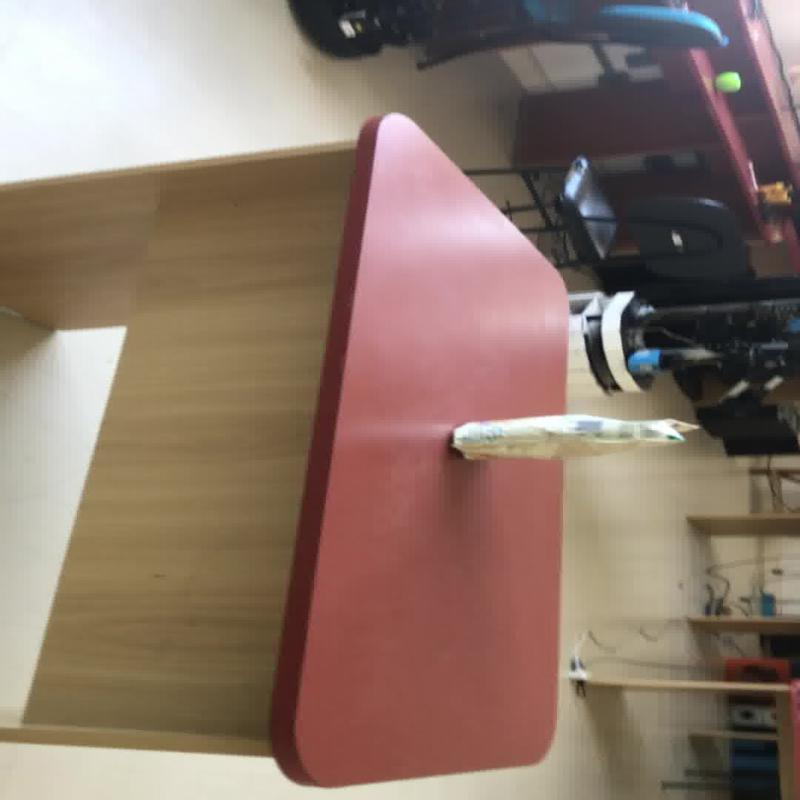corn flakes: (449, 412, 700, 461)
